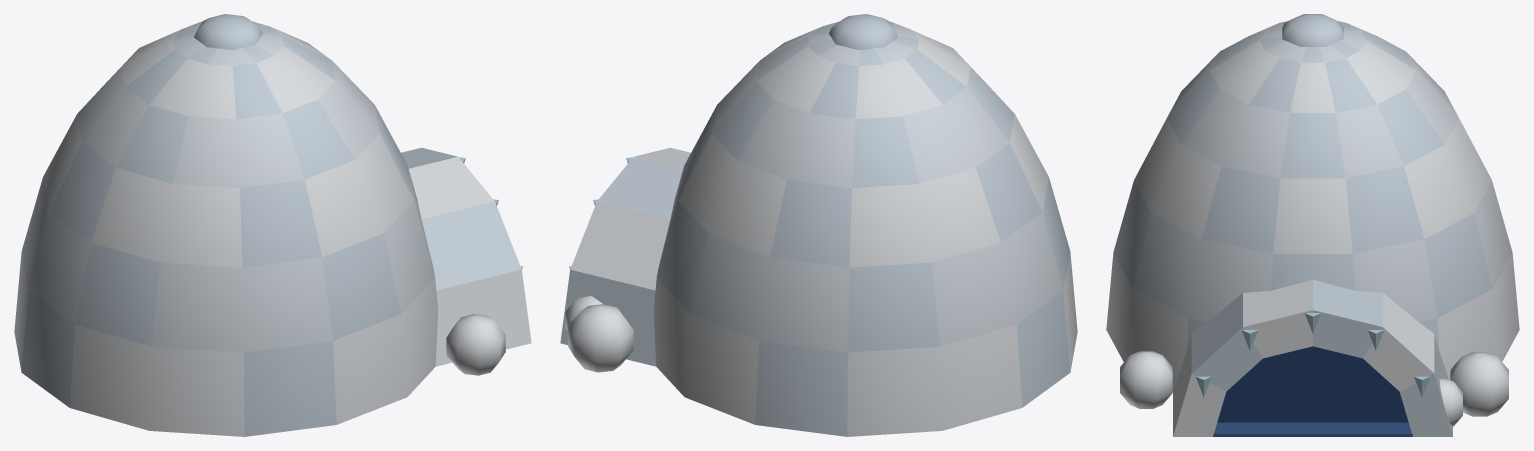
Rendered from ice-hide.glb.
3 views of the same model, side by side, from view 1: azimuth 30°, elevation 25°; view 2: azimuth 150°, elevation 25°; view 3: azimuth 270°, elevation 25° (orthographic). The views are drawn at different scales.
Parts seen in each view (by area): view 1: ice-hide; view 2: ice-hide; view 3: ice-hide.
Boxes of the visible parts, x1,y1,x2,y2 form: ice-hide: (14, 14, 531, 436); ice-hide: (560, 14, 1077, 436); ice-hide: (1106, 14, 1519, 436).
Bounding box in the file's own units: 1.39 × 1.04 × 1.24.
